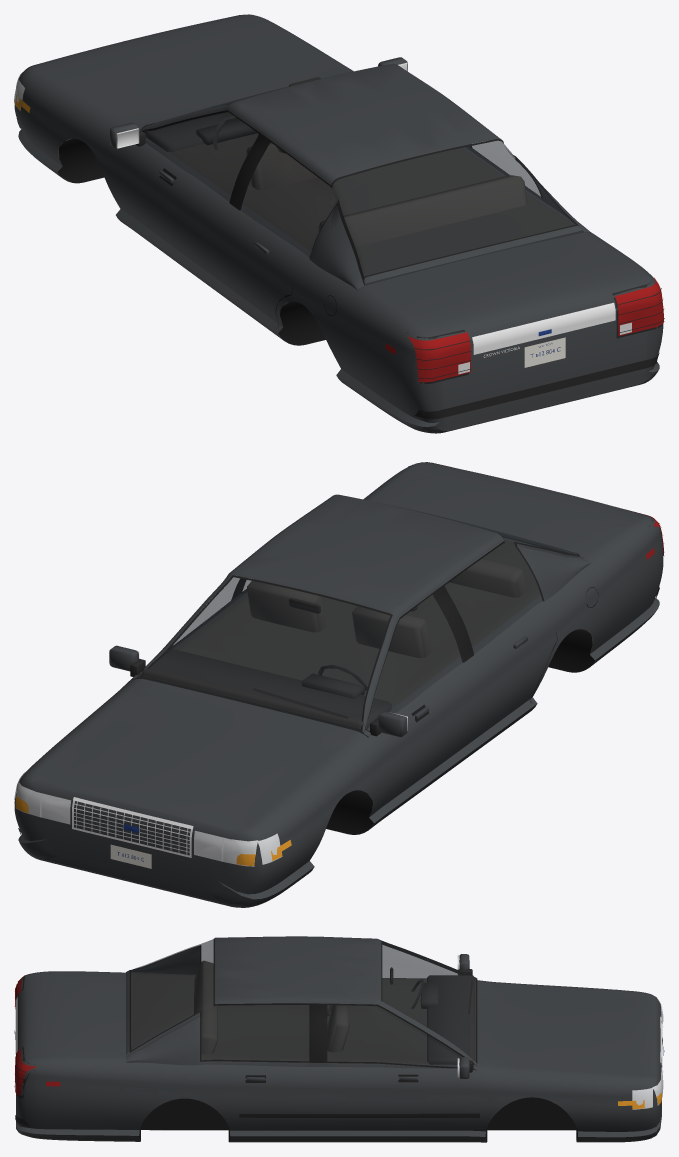
Rendered from crownvic_sedan.glb.
3 renders of one model, top to bottom at view 1: azimuth 30°, elevation 25°; view 2: azimuth 150°, elevation 25°; view 3: azimuth 270°, elevation 25°, orthographic. The views are drawn at different scales.
Visible parts, largest first — view 1: body, greenhouse, details; view 2: body, greenhouse, details; view 3: body, greenhouse, details.
Boxes of the visible parts, box(x1,y1,x2,y2) form: body: box(14, 14, 663, 433); greenhouse: box(140, 63, 590, 290); details: box(14, 57, 664, 419); body: box(14, 462, 663, 907); greenhouse: box(131, 494, 590, 737); details: box(14, 462, 664, 868); body: box(16, 971, 661, 1142); greenhouse: box(126, 936, 477, 1070); details: box(14, 954, 664, 1125).
Size of the model in its own units: 2.24 by 1.25 by 5.46.
